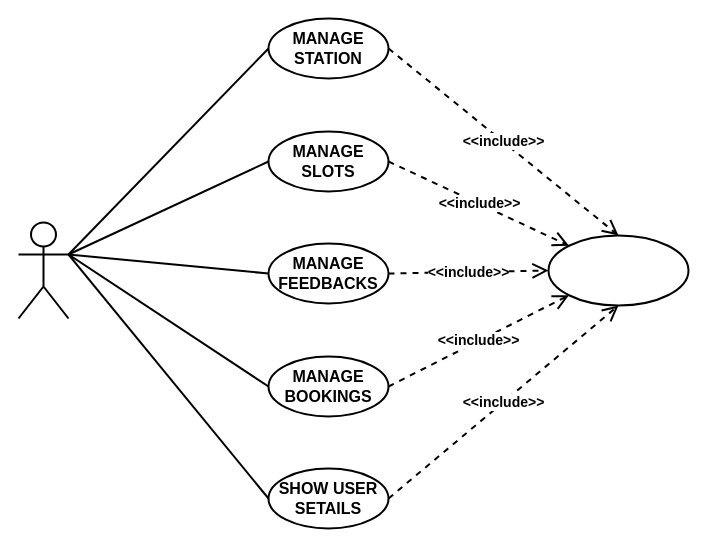
The diagram is 706 pixels wide and 546 high, and some of its shapes have lost their labels. Each missing label, with the centre of its shape:
"ADMIN" goes at point (43, 270).
"Login" goes at point (618, 270).
